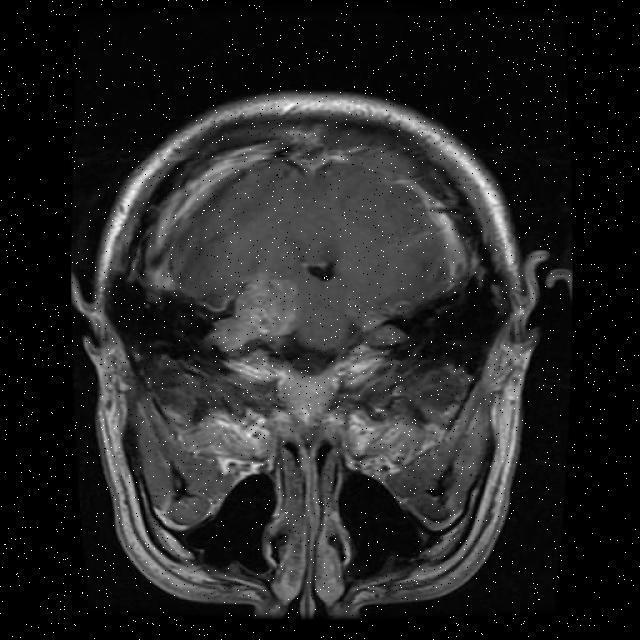Meningioma: (232, 275, 298, 337)
